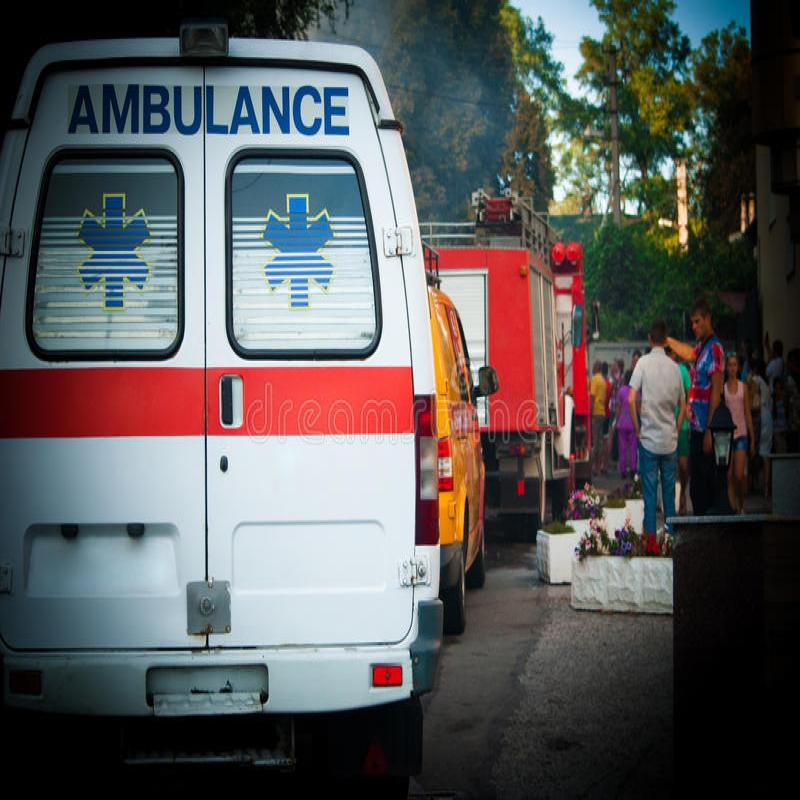ambulance: (6, 19, 456, 728)
